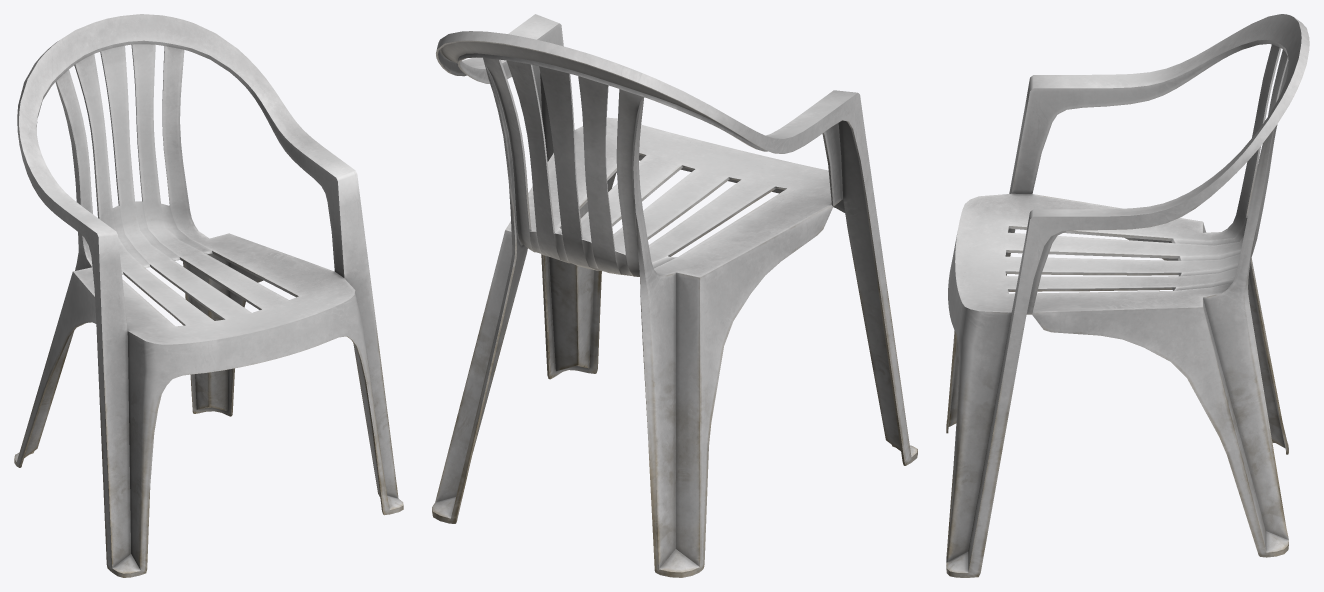
File: monobloc.fbx
The picture shows the model from 3 angles, left to right: view 1: azimuth 30°, elevation 25°; view 2: azimuth 150°, elevation 25°; view 3: azimuth 270°, elevation 25°; orthographic projection. The views are drawn at different scales.
Parts seen in each view (by area): view 1: Monobloc; view 2: Monobloc; view 3: Monobloc.
Boxes of the visible parts, bbox=[...] form: Monobloc: bbox=[14, 14, 403, 577]; Monobloc: bbox=[432, 14, 917, 577]; Monobloc: bbox=[946, 14, 1309, 577].
Size of the model in its own units: 80.8 by 111 by 79.
